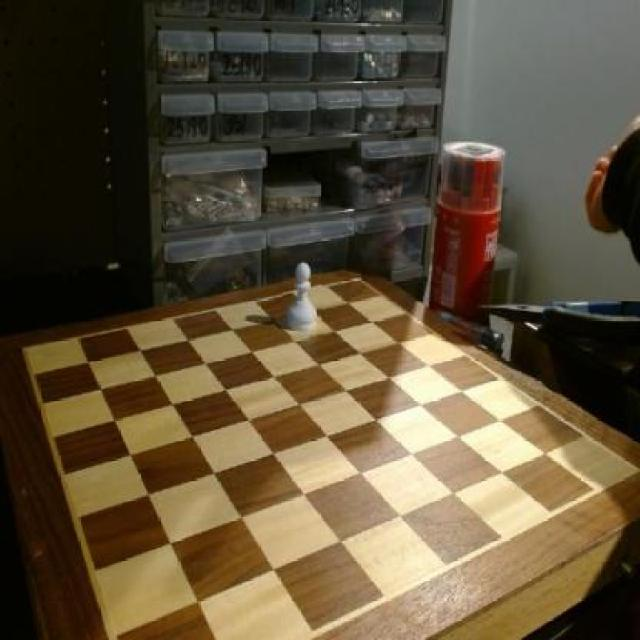white-knight: (282, 256, 322, 340)
